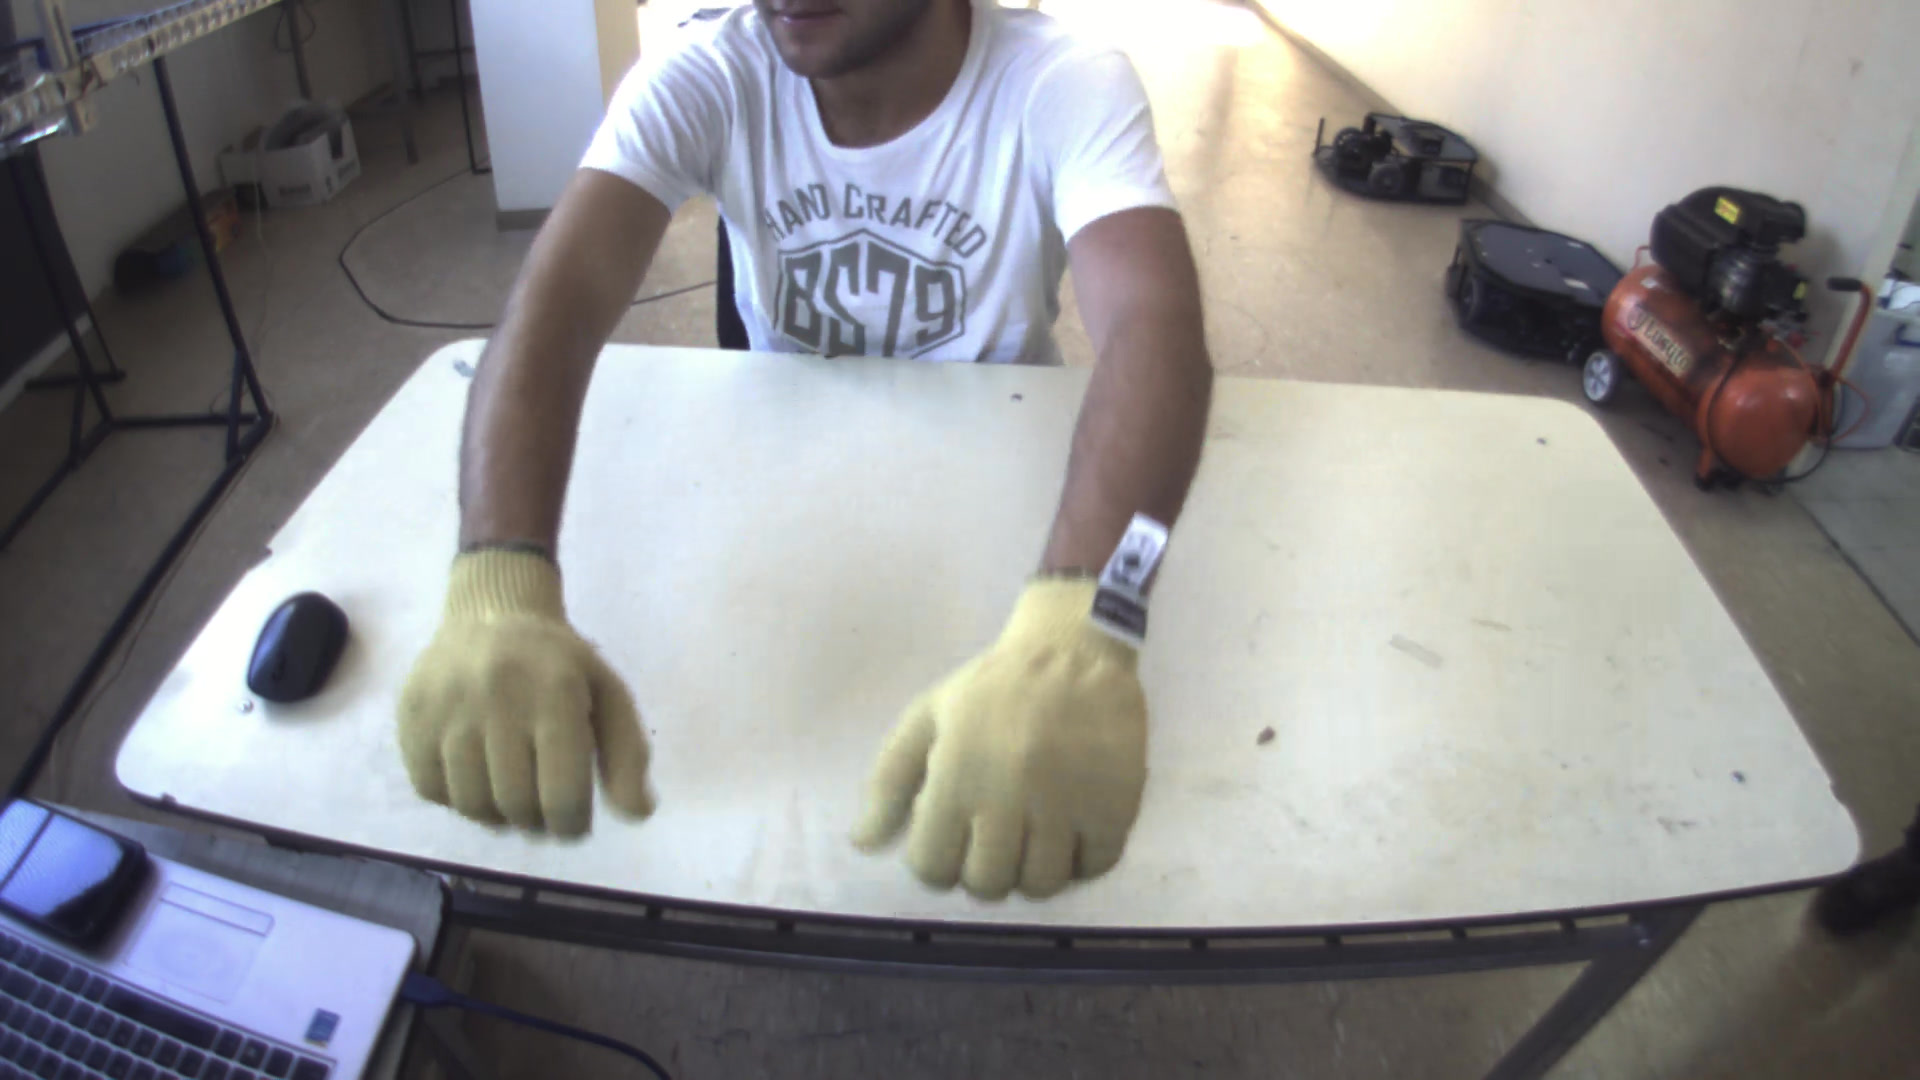hand: (818, 591, 1164, 905), (376, 535, 654, 837)
